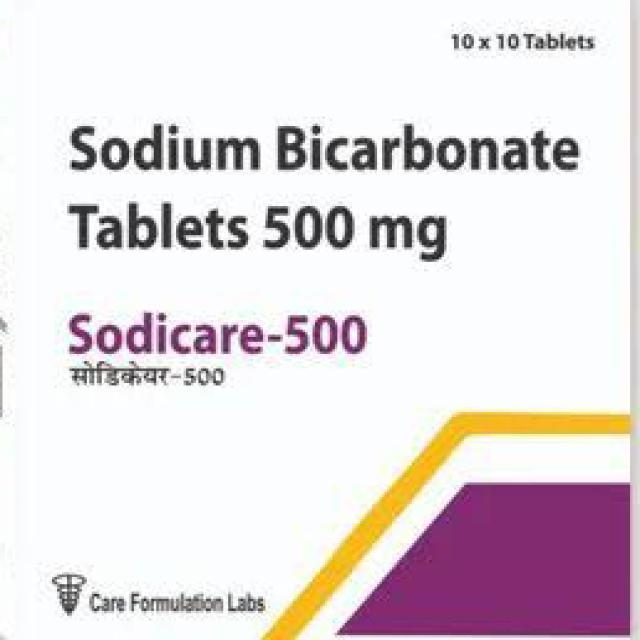drug-name: (66, 306, 372, 357)
